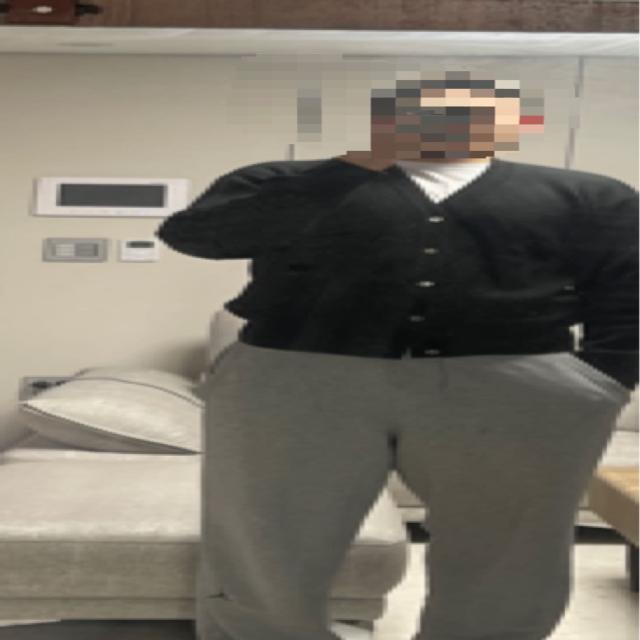cardigan: (159, 151, 640, 388)
trainingpants: (195, 333, 624, 640)
